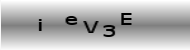3: (101, 24, 116, 38)
E: (120, 12, 134, 26)
V: (82, 20, 100, 33)
e: (64, 15, 78, 26)
i: (37, 18, 44, 32)
